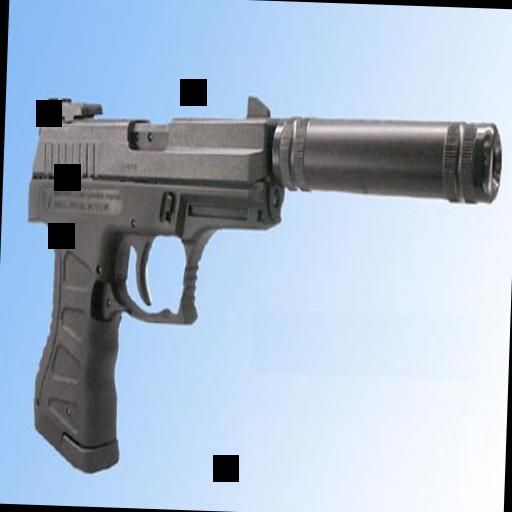Handgun: (14, 84, 502, 486)
